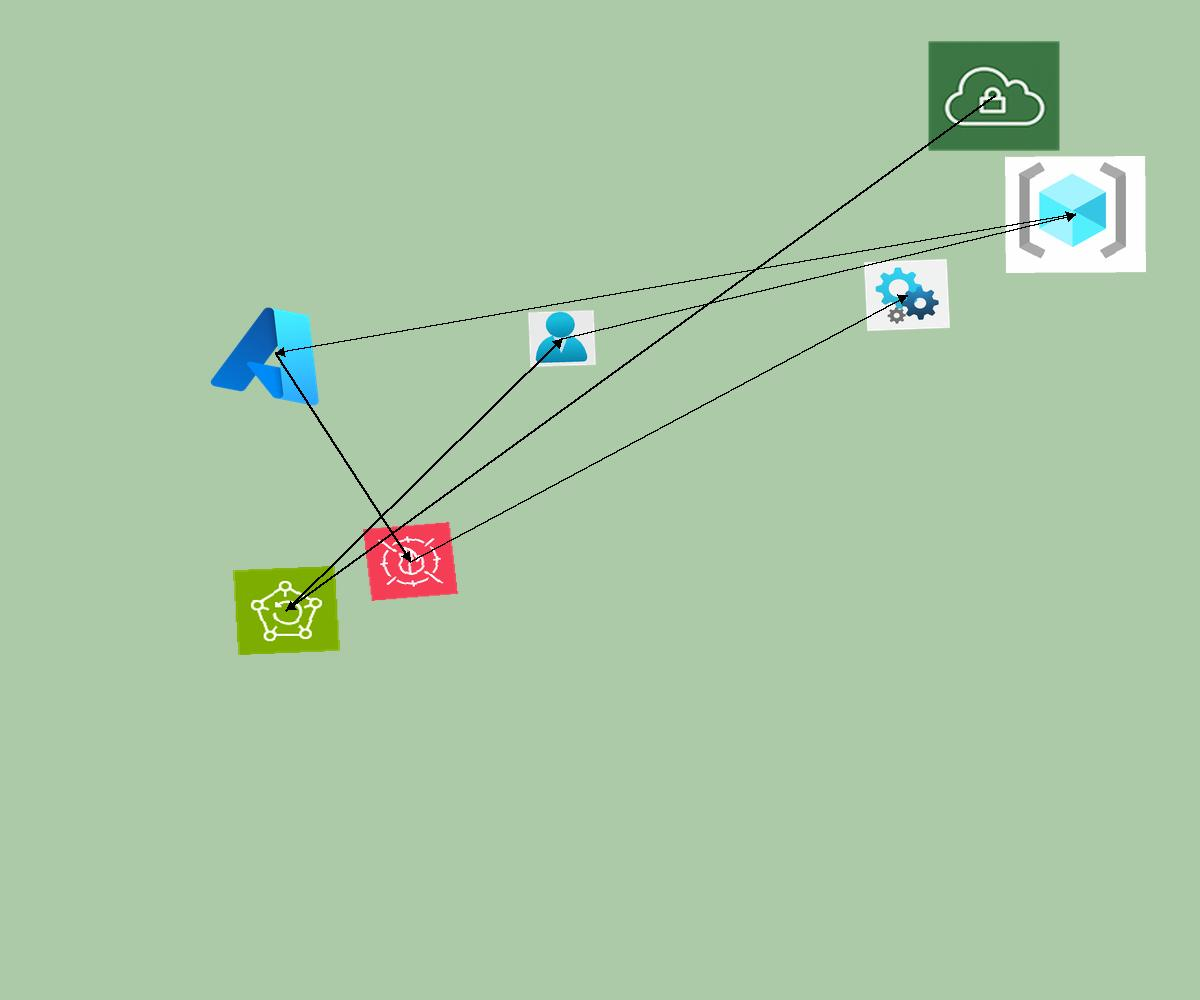AWS-Backup: (232, 565, 341, 656)
AWS-Private_vpc: (927, 40, 1061, 152)
AWS-WAF: (363, 522, 458, 601)
Azure_api: (864, 259, 950, 331)
Azure_resource_group: (1005, 156, 1146, 273)
Azure_services: (203, 293, 348, 414)
Azure_users: (528, 310, 596, 367)
